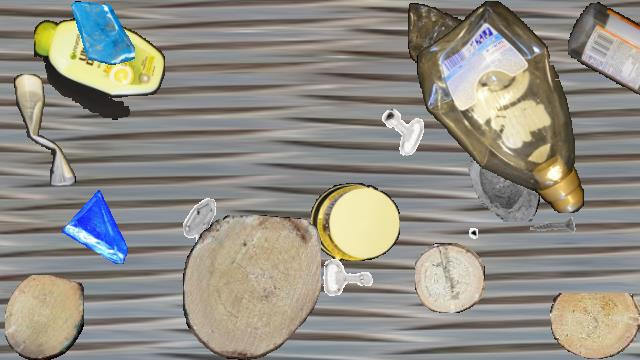glass: (453, 132, 543, 222), (62, 190, 136, 264), (71, 1, 135, 65)
metal: (317, 247, 379, 309), (169, 196, 229, 256), (525, 204, 577, 256), (428, 199, 478, 249), (379, 107, 427, 155)
plastic: (417, 1, 585, 213), (34, 18, 164, 120), (568, 1, 640, 129), (14, 74, 76, 186), (311, 183, 399, 261), (408, 1, 482, 71)
wood: (183, 215, 321, 359), (5, 275, 83, 359), (550, 293, 640, 359), (415, 243, 485, 313)
